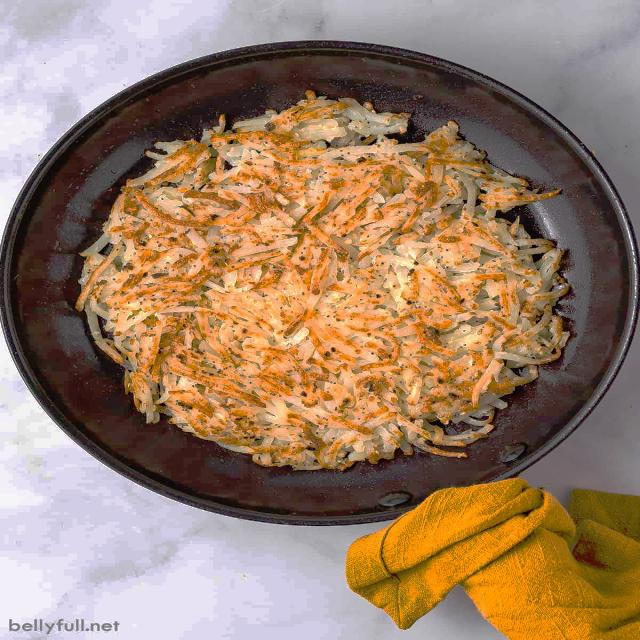Hashbrown: (73, 90, 572, 473)
